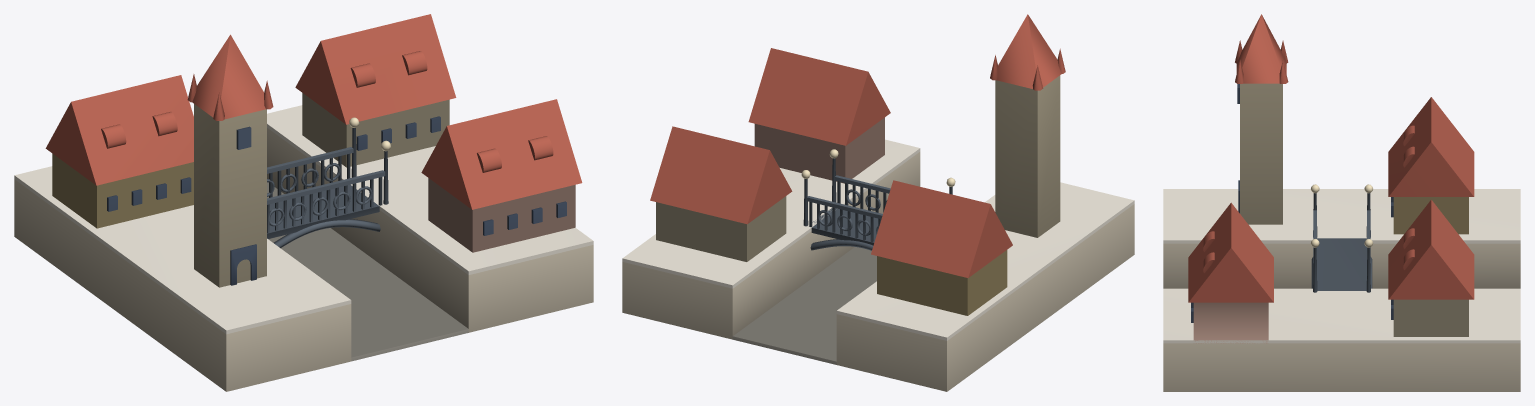
Rendered from sibiu.glb.
3 views of the same model, side by side, from view 1: azimuth 30°, elevation 25°; view 2: azimuth 150°, elevation 25°; view 3: azimuth 270°, elevation 25° (orthographic). The views are drawn at different scales.
Visible parts, largest first — view 1: sibiu_roofRed, sibiu_stone, sibiu_stoneLight, sibiu_cream, sibiu_stoneGray, sibiu_iron, sibiu_pink, sibiu_ochre, sibiu_window; view 2: sibiu_roofRed, sibiu_stone, sibiu_stoneLight, sibiu_cream, sibiu_stoneGray, sibiu_ochre, sibiu_pink, sibiu_iron; view 3: sibiu_stoneLight, sibiu_stone, sibiu_roofRed, sibiu_cream, sibiu_iron, sibiu_pink, sibiu_ochre, sibiu_window.
Part boxes in pixels (x1,y1,x2,y2): sibiu_roofRed: (45, 14, 582, 209); sibiu_stone: (14, 128, 593, 391); sibiu_stoneLight: (14, 105, 593, 334); sibiu_cream: (194, 93, 449, 287); sibiu_stoneGray: (267, 182, 468, 361); sibiu_iron: (267, 127, 388, 248); sibiu_pink: (428, 178, 575, 252); sibiu_ochre: (52, 153, 193, 228); sibiu_window: (107, 116, 566, 285); sibiu_roofRed: (650, 14, 1065, 277); sibiu_stone: (622, 152, 1134, 391); sibiu_stoneLight: (622, 139, 1134, 340); sibiu_cream: (656, 75, 1060, 261); sibiu_stoneGray: (732, 247, 876, 364); sibiu_ochre: (877, 250, 1007, 315); sibiu_pink: (754, 117, 884, 183); sibiu_iron: (803, 158, 952, 250); sibiu_stoneLight: (1163, 189, 1520, 343); sibiu_stone: (1163, 243, 1520, 391); sibiu_roofRed: (1188, 14, 1474, 302); sibiu_cream: (1240, 83, 1468, 336); sibiu_iron: (1311, 193, 1372, 292); sibiu_pink: (1193, 302, 1268, 343); sibiu_ochre: (1393, 197, 1468, 234); sibiu_window: (1191, 84, 1393, 322).
Bounding box in the file's own units: 2.02 × 1.56 × 2.
